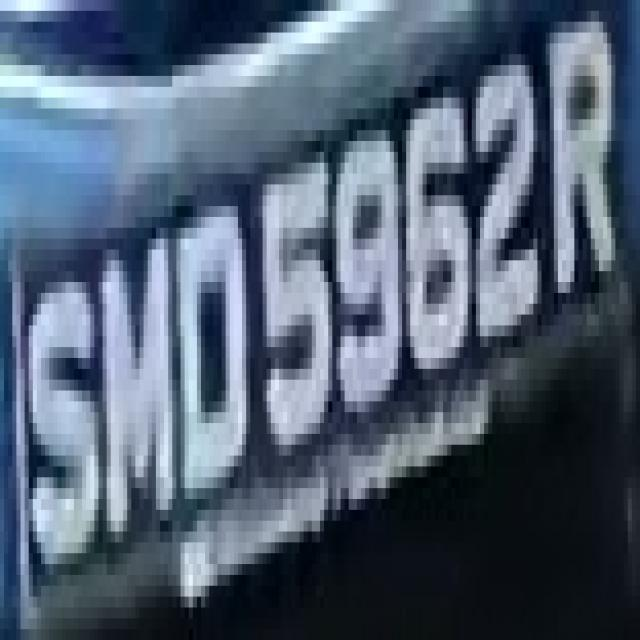2: (464, 43, 546, 390)
5: (255, 120, 336, 478)
6: (402, 65, 480, 412)
9: (320, 119, 398, 434)
D: (172, 185, 255, 542)
M: (95, 217, 176, 575)
R: (541, 11, 632, 325)
S: (24, 249, 99, 575)
